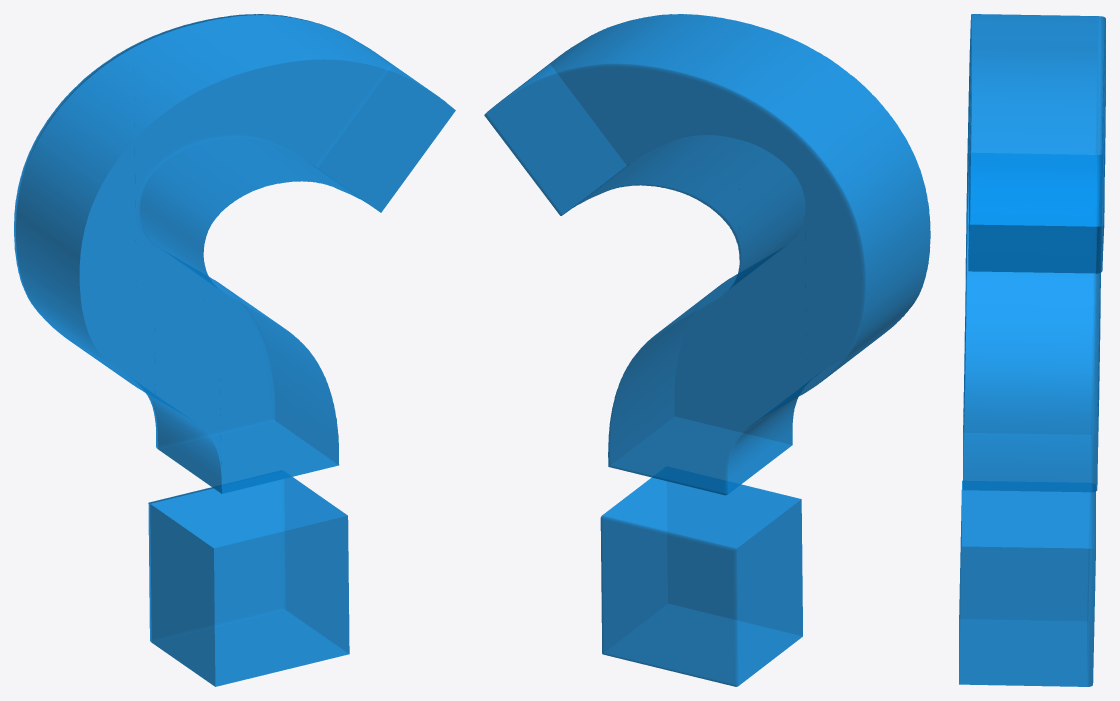
File: question-transformed.glb
3 renders of one model, left to right at view 1: azimuth 30°, elevation 25°; view 2: azimuth 150°, elevation 25°; view 3: azimuth 270°, elevation 25°, orthographic.
Parts seen in each view (by area): view 1: Object_2; view 2: Object_2; view 3: Object_2.
Boxes of the visible parts, x1,y1,x2,y2 form: Object_2: [14, 14, 455, 686]; Object_2: [484, 14, 930, 686]; Object_2: [959, 14, 1105, 686].
Size of the model in its own units: 373 by 571 by 125.
